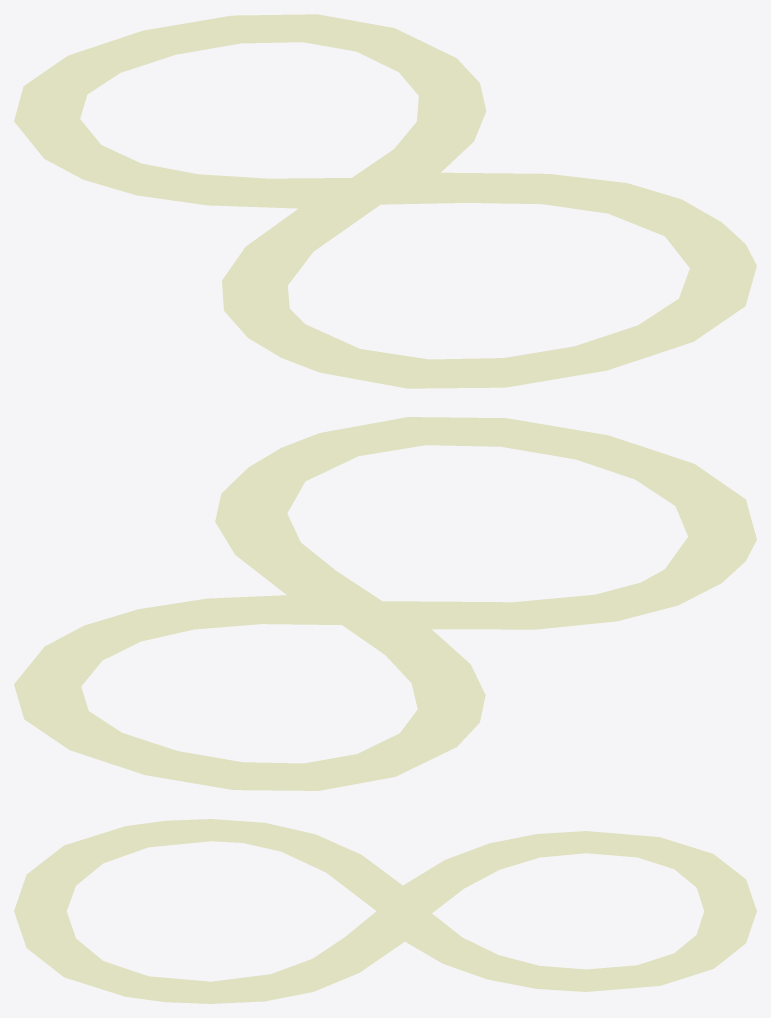
Rendered from original-81.obj.
3 renders of one model, top to bottom at view 1: azimuth 30°, elevation 25°; view 2: azimuth 150°, elevation 25°; view 3: azimuth 270°, elevation 25°, orthographic. The views are drawn at different scales.
Parts seen in each view (by area): view 1: _8_1_1/_8_1/mesh54/mesh54-geometry#mesh54-geometry; view 2: _8_1_1/_8_1/mesh54/mesh54-geometry#mesh54-geometry; view 3: _8_1_1/_8_1/mesh54/mesh54-geometry#mesh54-geometry.
Boxes of the visible parts, bbox=[...] form: _8_1_1/_8_1/mesh54/mesh54-geometry#mesh54-geometry: bbox=[14, 14, 756, 388]; _8_1_1/_8_1/mesh54/mesh54-geometry#mesh54-geometry: bbox=[14, 417, 756, 790]; _8_1_1/_8_1/mesh54/mesh54-geometry#mesh54-geometry: bbox=[14, 819, 756, 1003].
Bounding box in the file's own units: 0.0143 × 0 × 0.0242.
